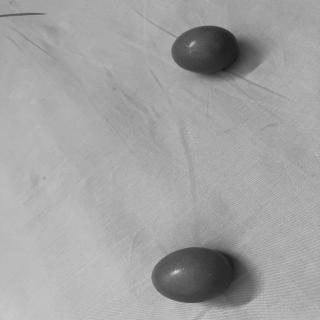Telur: (150, 244, 236, 304), (170, 25, 242, 75)
